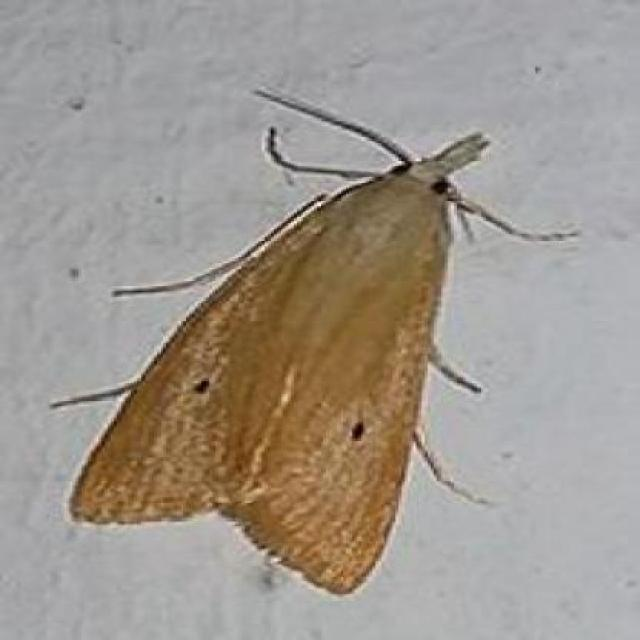stem-borer: (55, 83, 532, 599)
